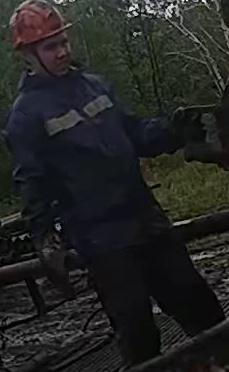gloves: (29, 225, 88, 304), (170, 104, 222, 156)
helmet: (8, 0, 73, 50)
vest: (4, 66, 171, 260)
